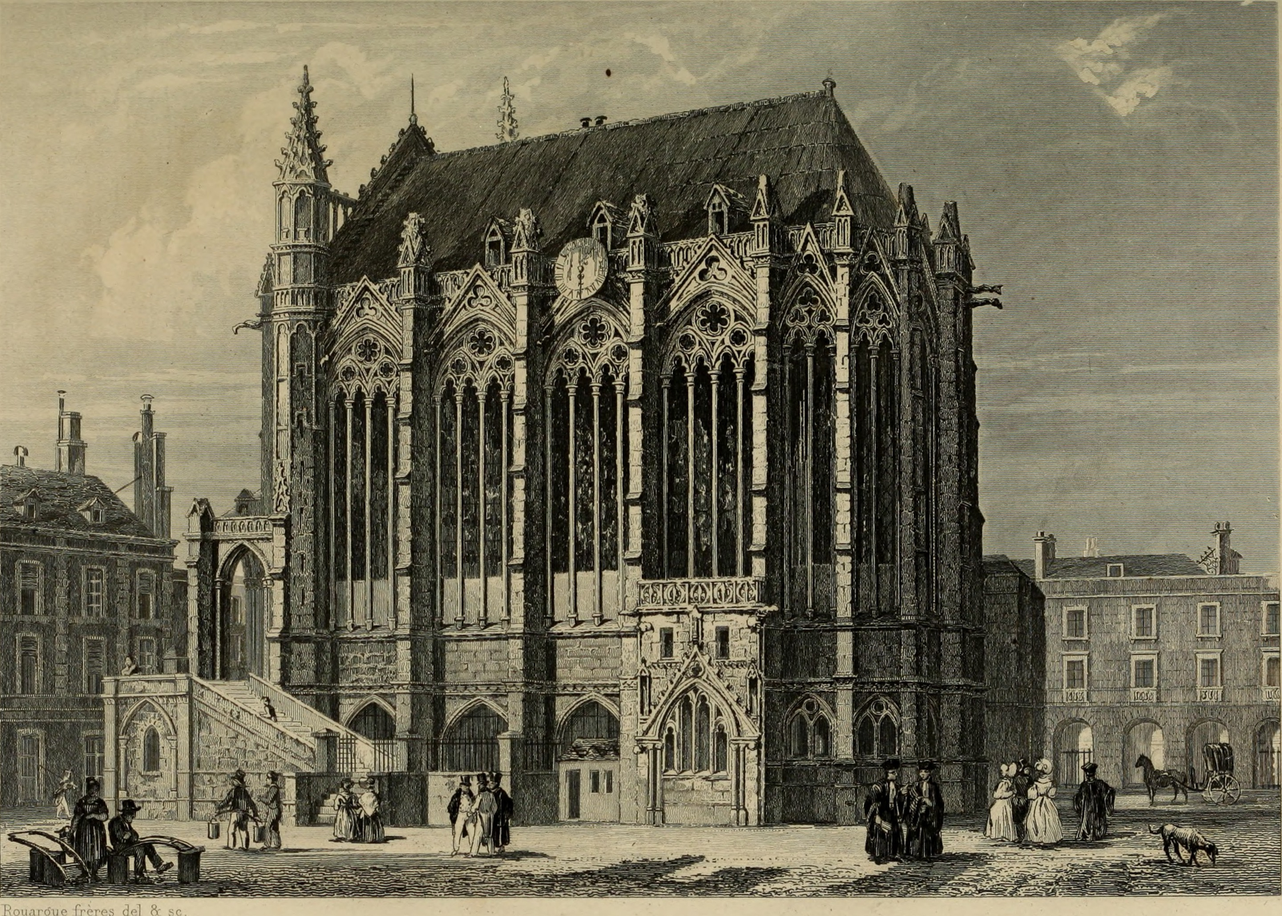fachada: (243, 45, 999, 817), (8, 390, 283, 836), (996, 521, 1282, 841)
